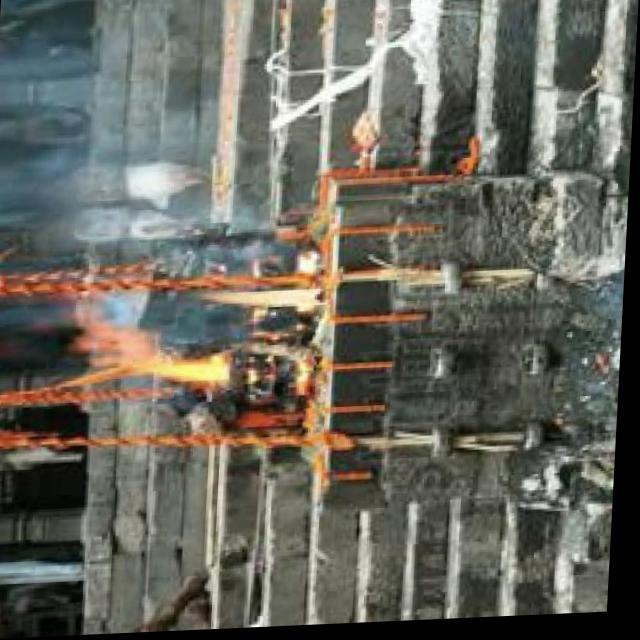Fire: (72, 320, 241, 401), (198, 271, 324, 338)
